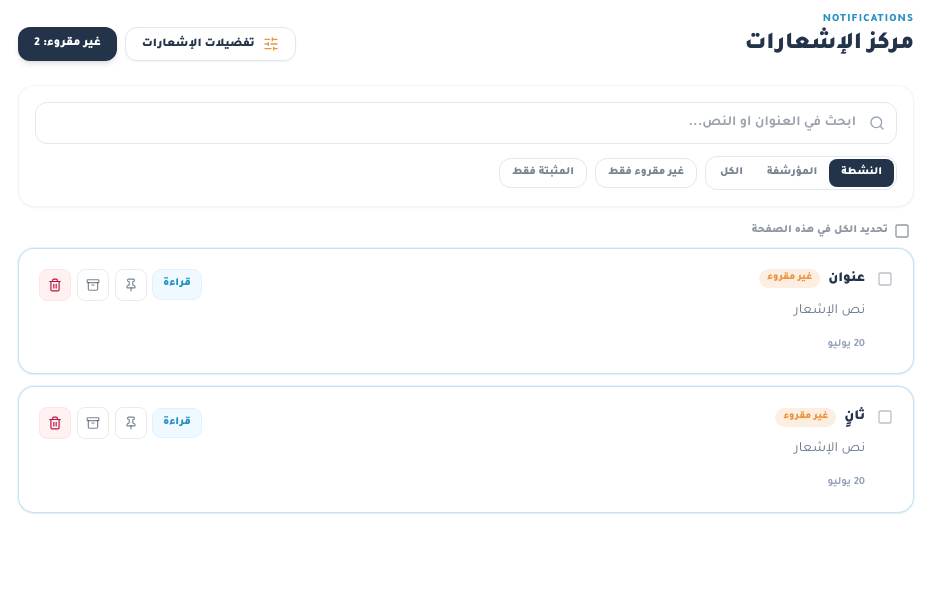
NotificationsCenterPage — multi-select and bulk actions › bulk-archives selected items, clears selection, and refetches the current filtered page
Check: the text "عنوان" is shown, box x1=828 y1=268 x2=865 y2=288
Click the button "تحديد الكل في هذه الصفحة".
click(831, 231)  # box x1=752 y1=223 x2=910 y2=240
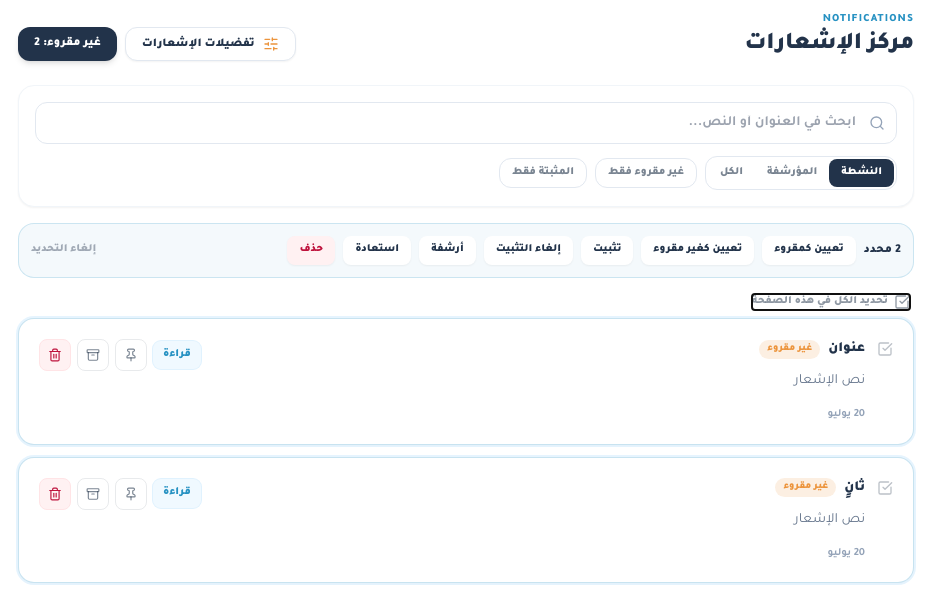
Check: the text "2 محدد" is shown, box x1=864 y1=241 x2=901 y2=259
Click the button "أرشفة".
click(447, 250)  # box x1=419 y1=236 x2=476 y2=264
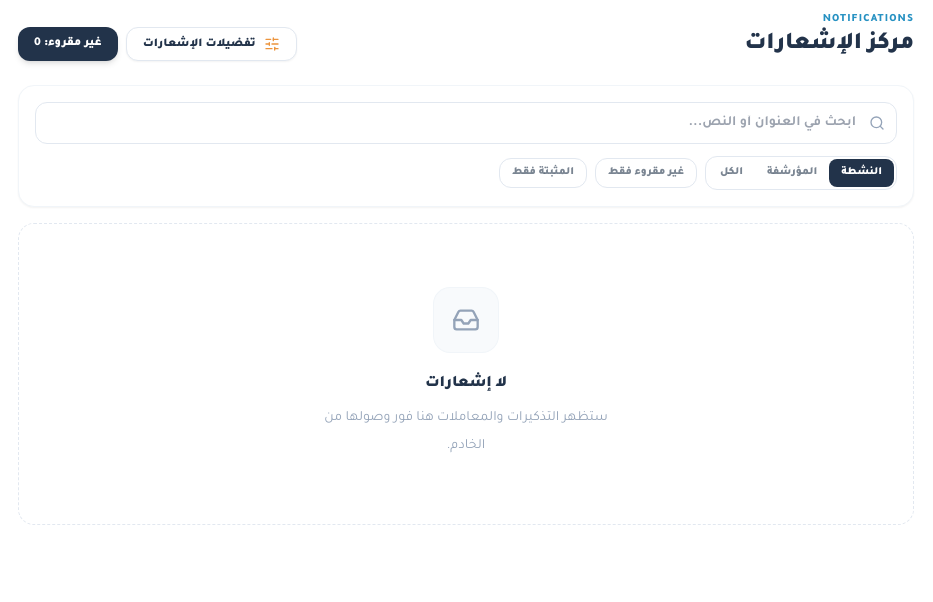
Check: the text "محدد" is gone
